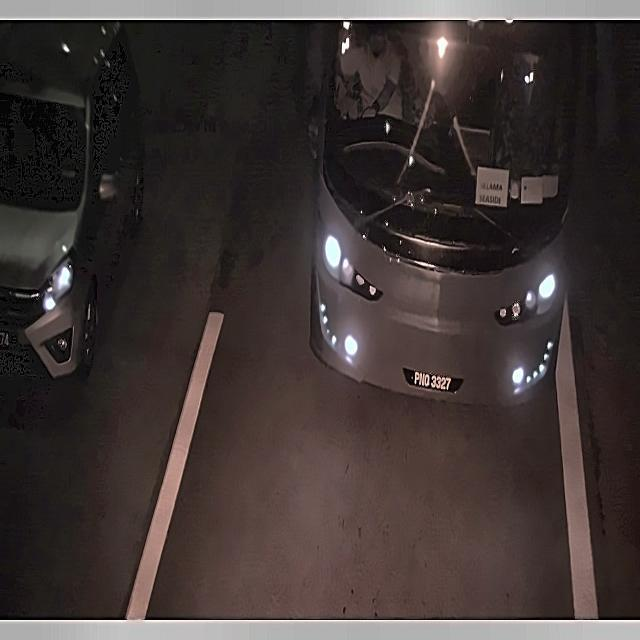car: (405, 368, 459, 397), (0, 325, 12, 353)
